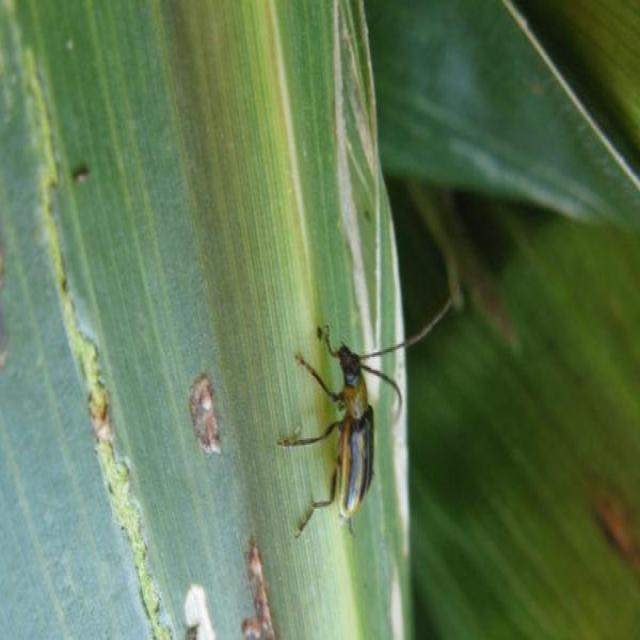trips: (278, 294, 451, 542)
